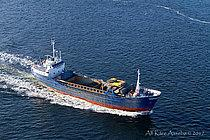Ship: (30, 37, 160, 120)
